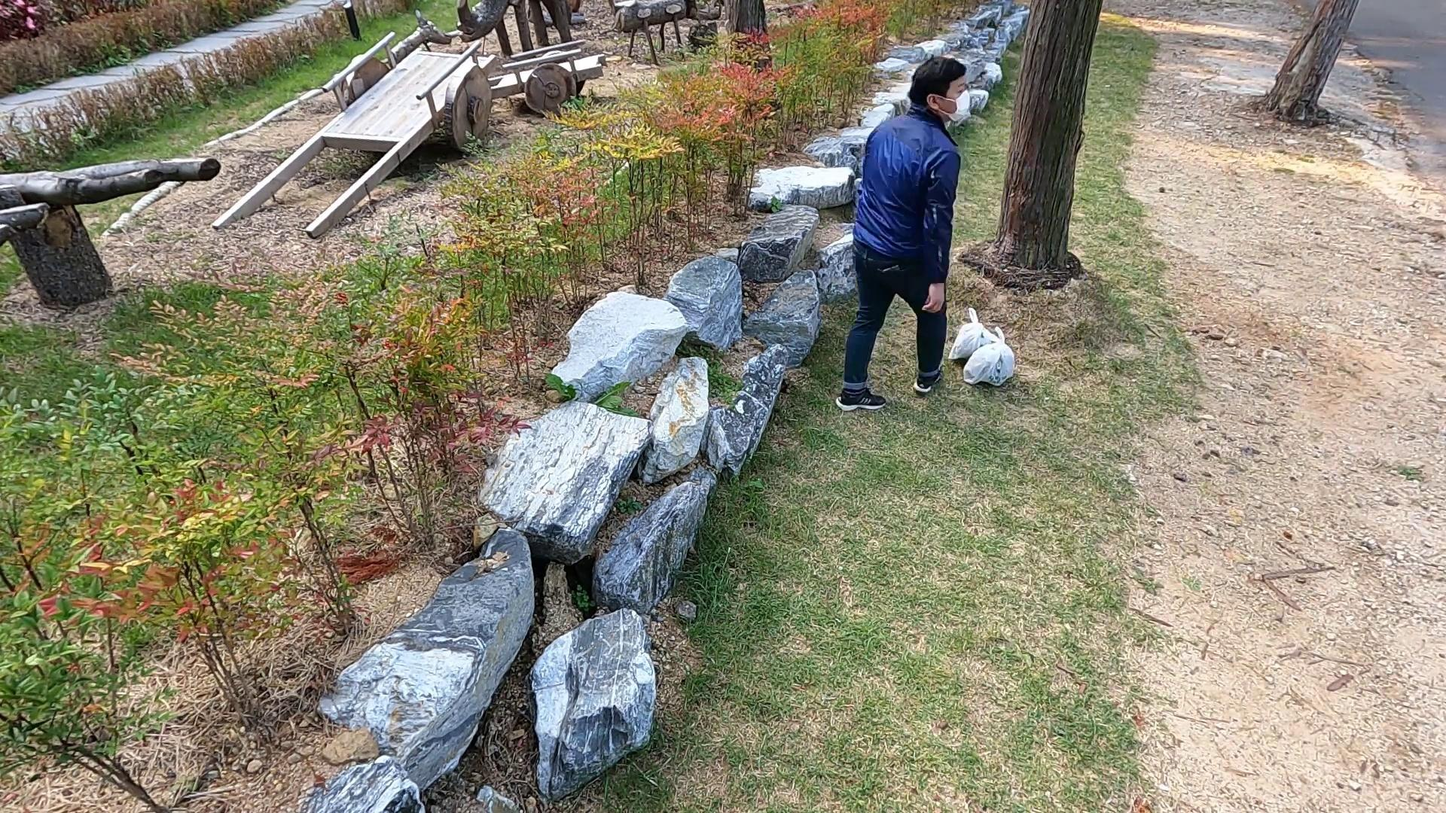person: (833, 54, 973, 410)
trash: (961, 325, 1014, 386), (947, 308, 1001, 365)
